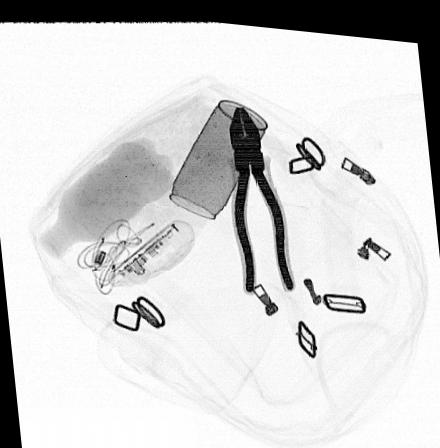Pliers: (225, 100, 297, 292)
